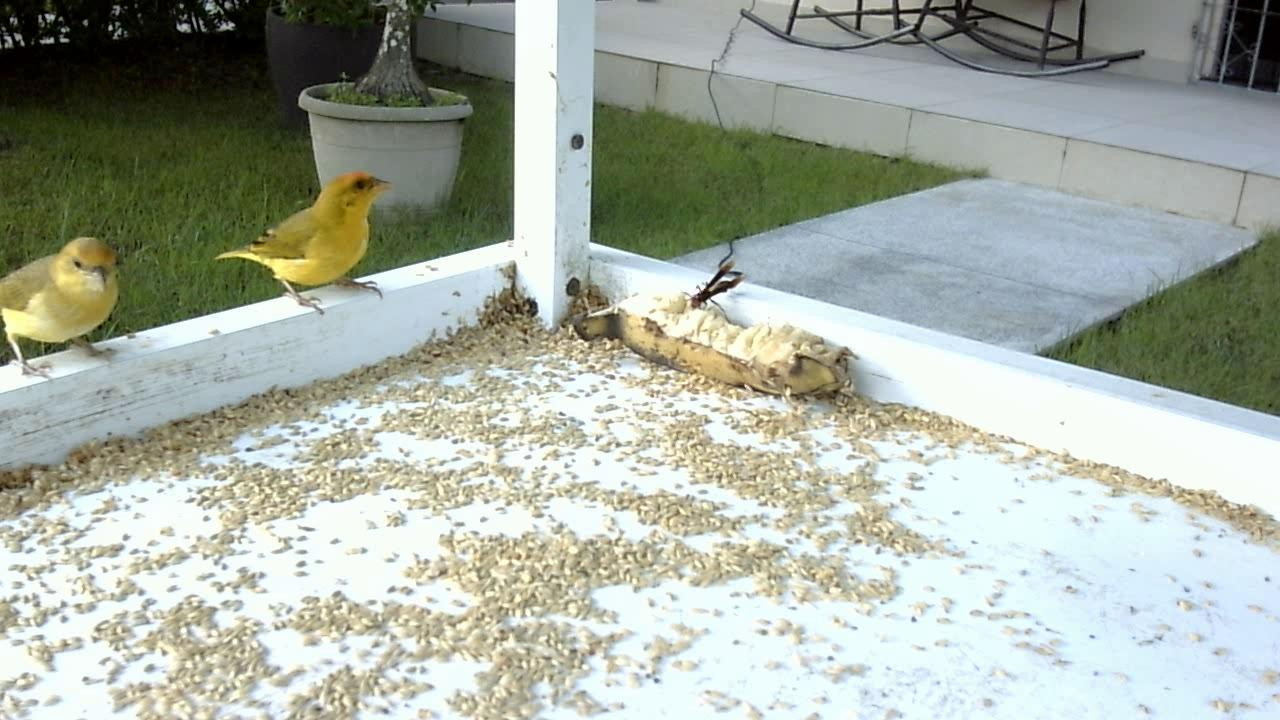canario_do_amazonas: (214, 171, 398, 322), (1, 234, 129, 382)
